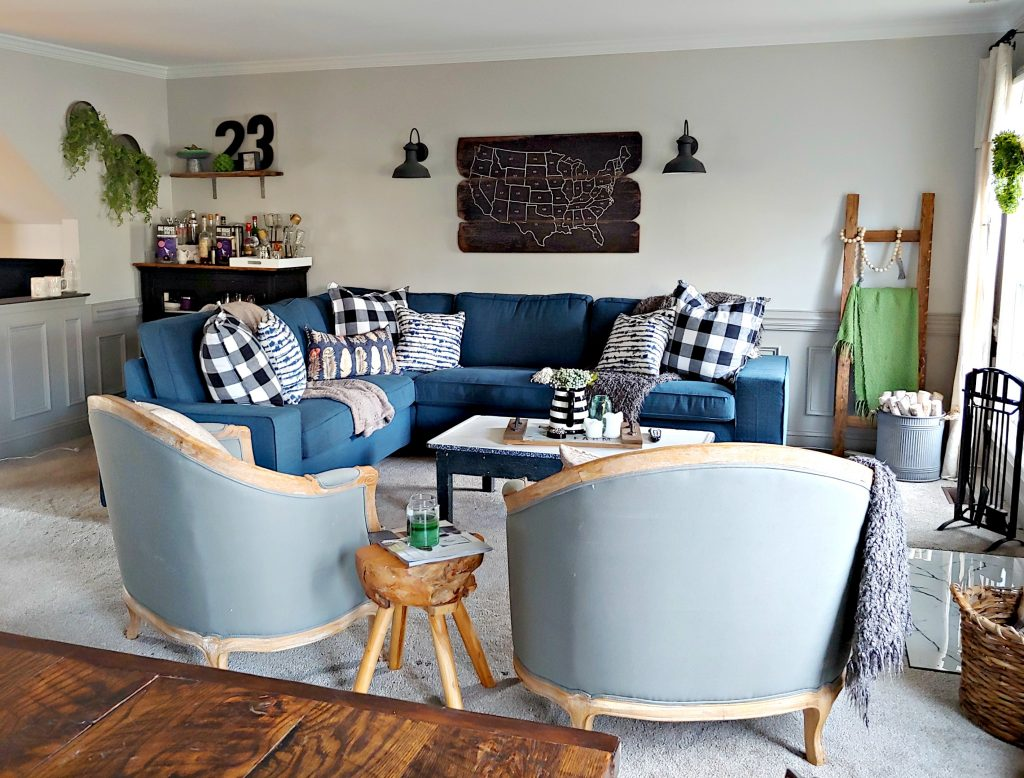biru: (509, 448, 918, 728), (83, 411, 384, 640), (463, 293, 563, 409)
coklat: (1, 633, 621, 778), (361, 550, 491, 707)
hijau: (847, 288, 923, 386)
hitam: (455, 137, 641, 253), (393, 135, 436, 184), (663, 127, 706, 176)
putih: (32, 276, 62, 297)
